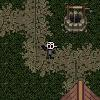Hide: (53, 0, 100, 41)
Jason: (41, 40, 59, 60)
